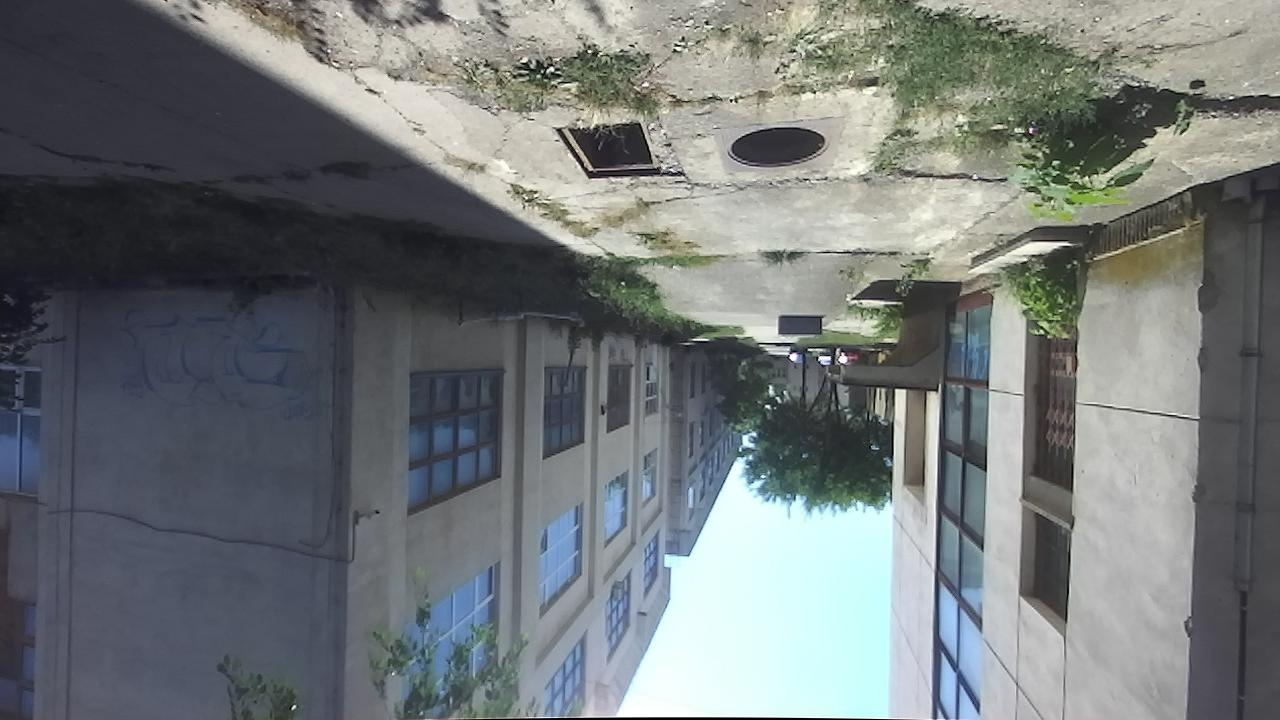drain: (548, 117, 669, 182), (722, 122, 834, 171)
